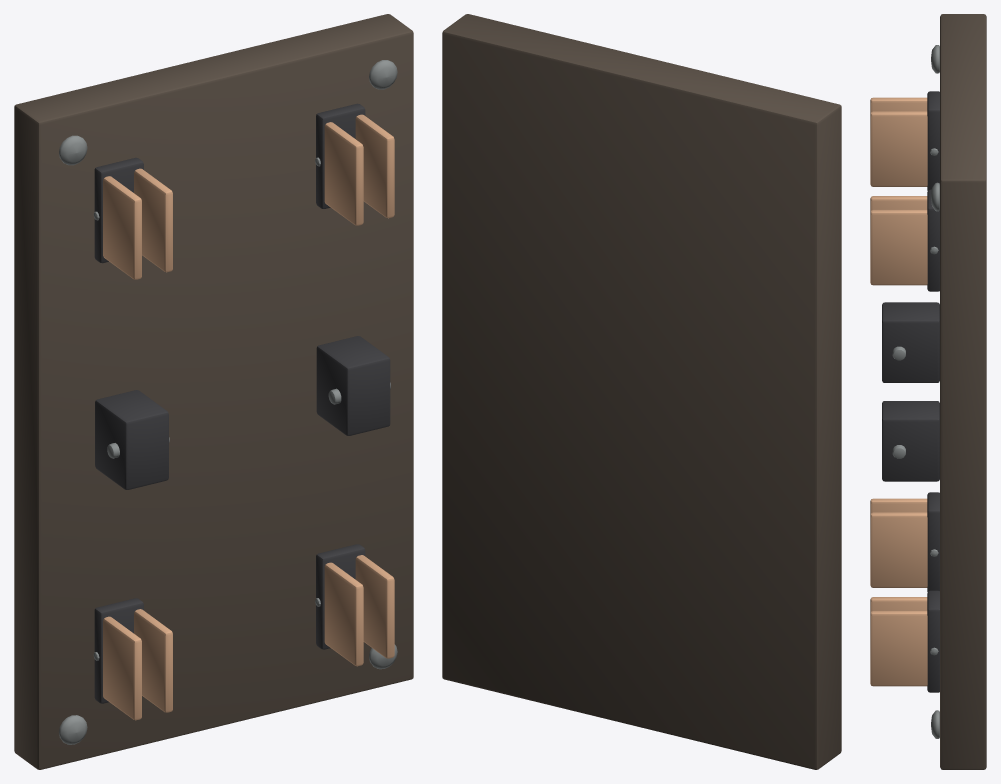
The model's file is knife_base.glb.
The picture shows the model from 3 angles, left to right: view 1: azimuth 30°, elevation 25°; view 2: azimuth 150°, elevation 25°; view 3: azimuth 270°, elevation 25°; orthographic projection. The views are drawn at different scales.
Parts seen in each view (by area): view 1: knife_base; view 2: knife_base; view 3: knife_base.
Boxes of the visible parts, <box> form: knife_base: <box>14,14,413,769</box>; knife_base: <box>442,14,841,769</box>; knife_base: <box>870,14,986,769</box>.
Bounding box in the file's own units: 0.34 × 0.56 × 0.1.
